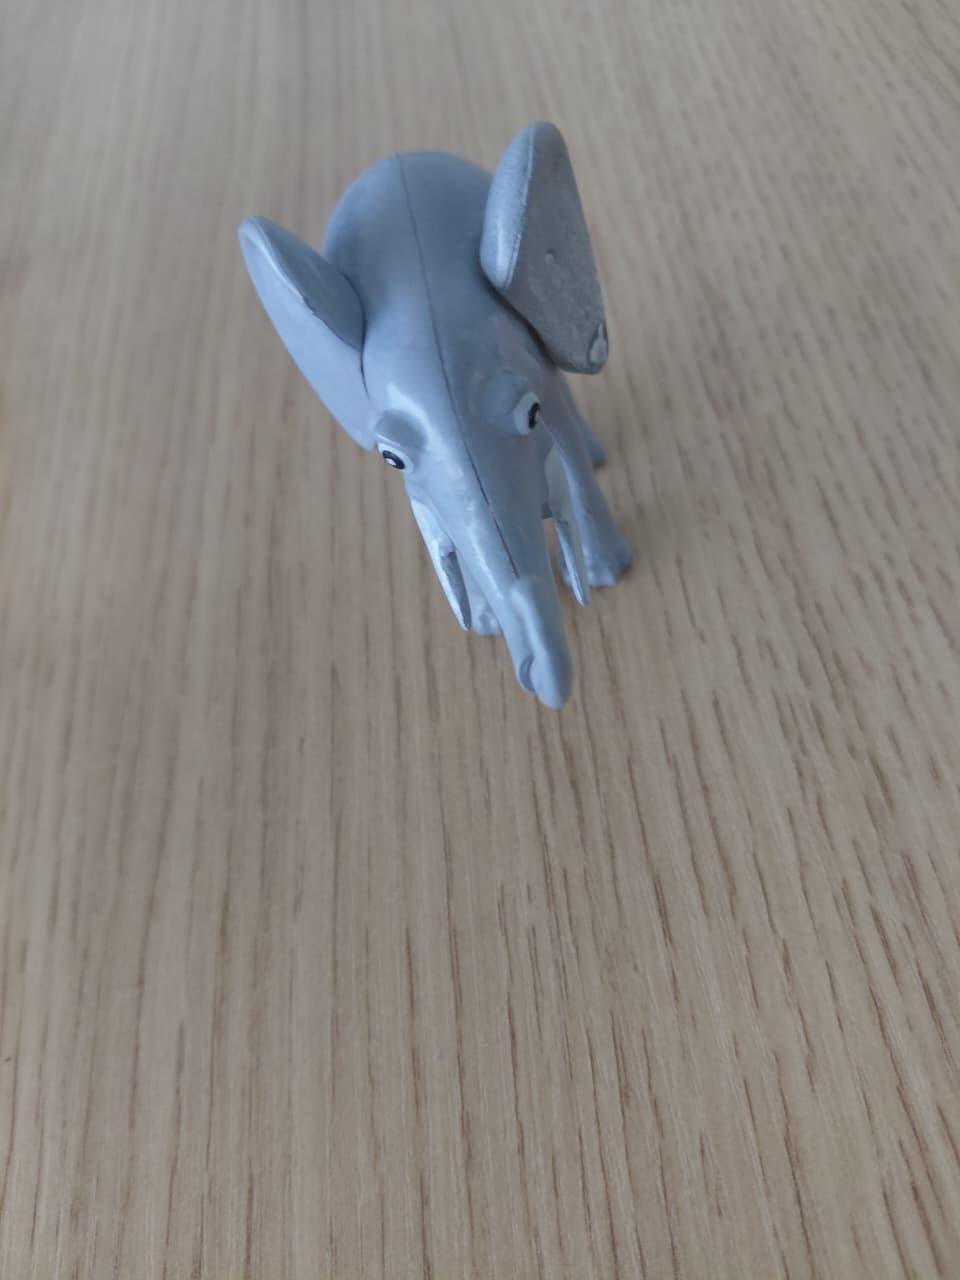elephant: (170, 91, 832, 789)
